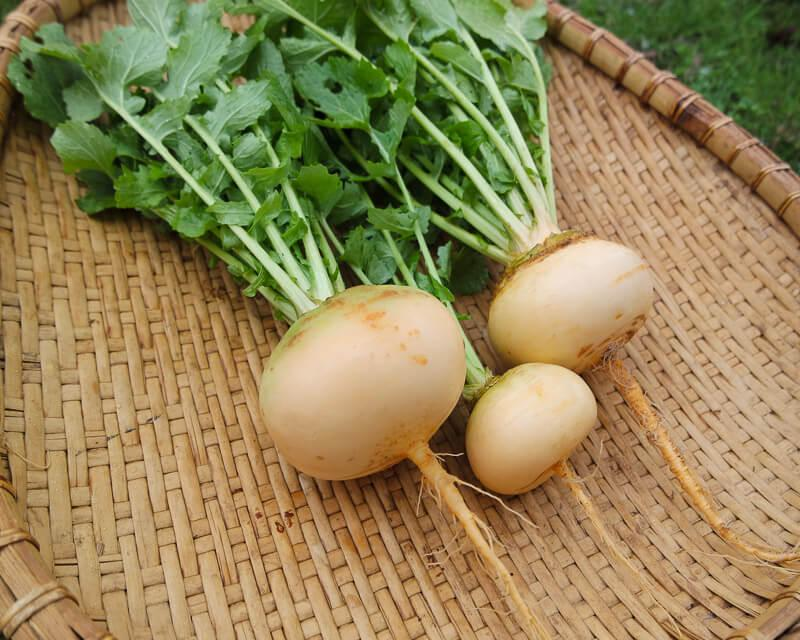tomato: (258, 283, 466, 481), (464, 361, 597, 496)
turnip: (485, 227, 798, 572), (257, 282, 551, 638), (392, 14, 654, 373)
